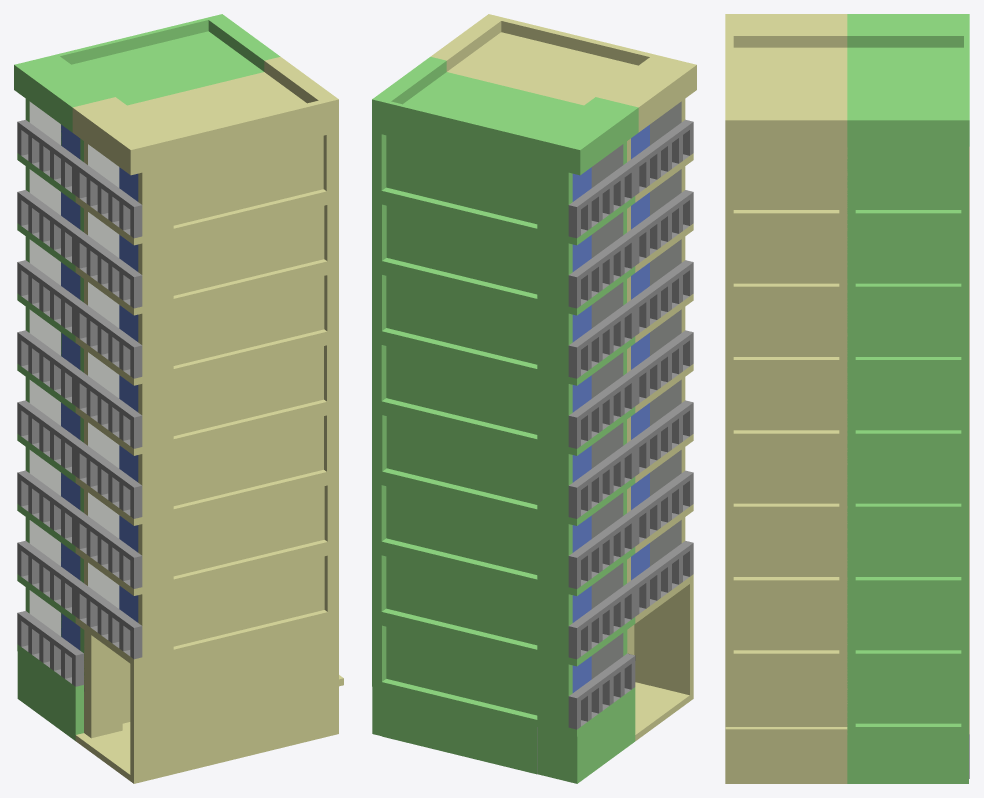
Rendered from BUILDING(7).fbx.
The picture shows the model from 3 angles, left to right: view 1: azimuth 30°, elevation 25°; view 2: azimuth 150°, elevation 25°; view 3: azimuth 270°, elevation 25°; orthographic projection. The views are drawn at different scales.
Visible parts, largest first — view 1: Cube; view 2: Cube; view 3: Cube.
Part boxes in pixels (box(x1,y1,x2,y2)): Cube: box(14, 14, 343, 783); Cube: box(372, 14, 696, 783); Cube: box(725, 14, 969, 783).
Size of the model in its own units: 6363 by 18104 by 6033.
